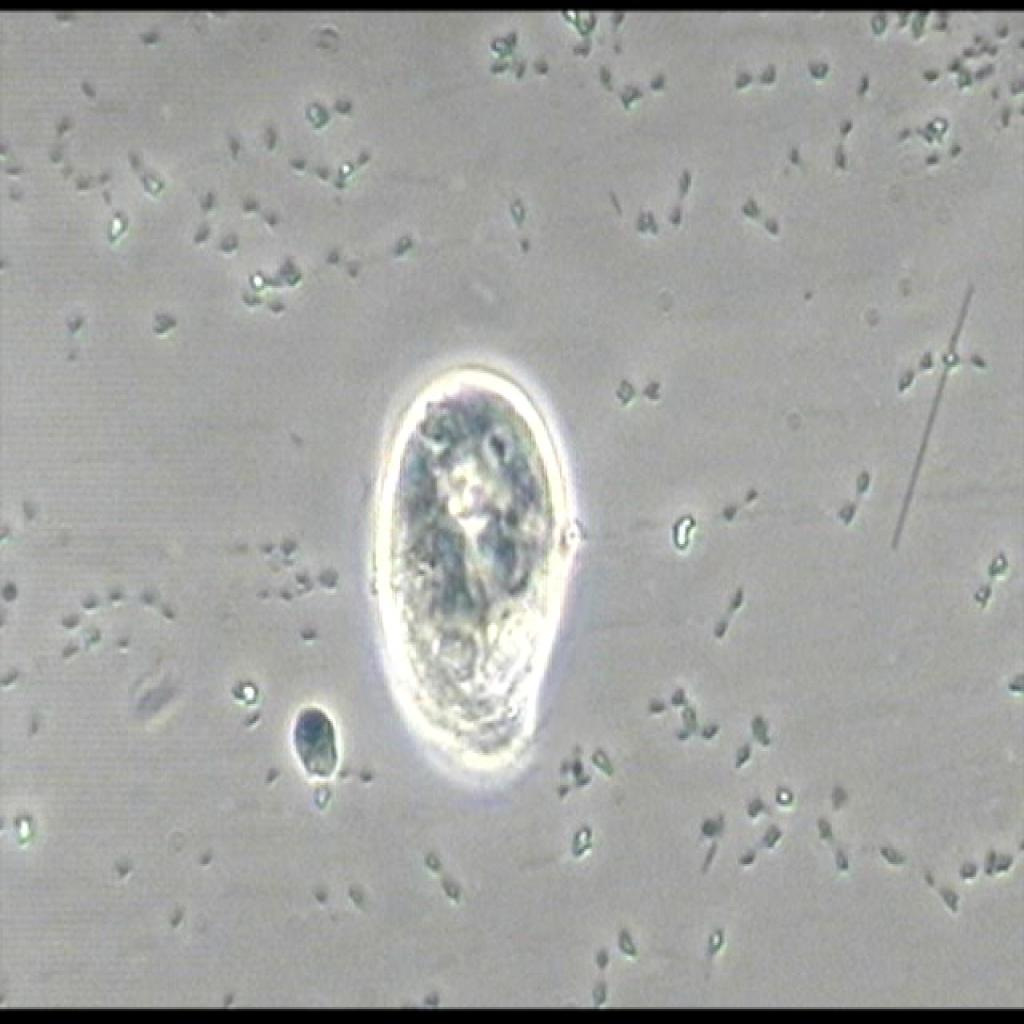Chilodonella: (370, 348, 584, 815)
